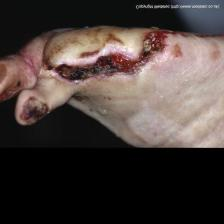Wound: (49, 27, 193, 84), (17, 92, 55, 129)
